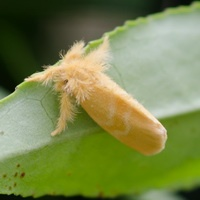insect: (25, 35, 166, 154)
